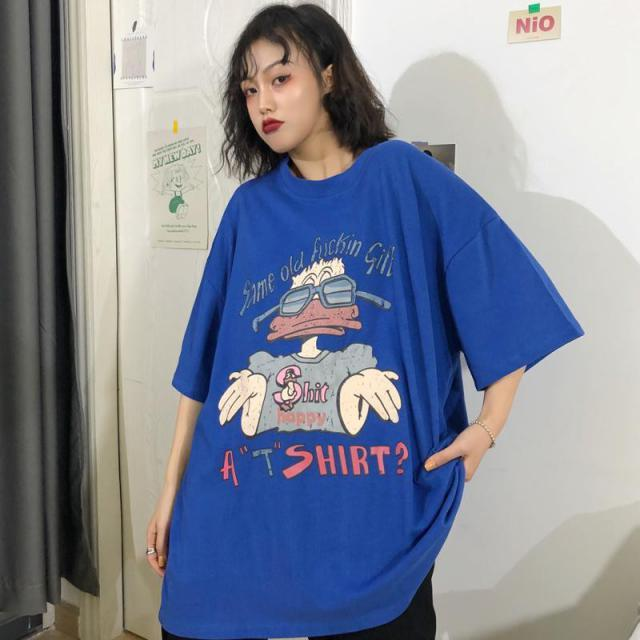Shirt: (155, 132, 588, 640)
